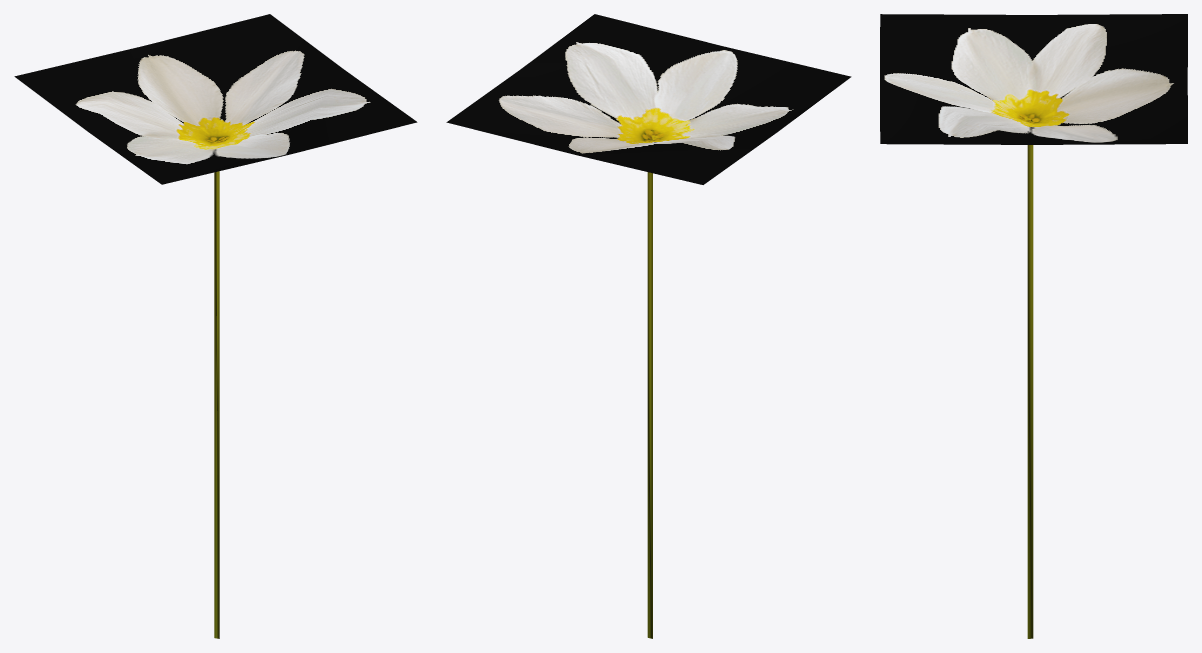
Rendered from flower4.glb.
The picture shows the model from 3 angles, left to right: view 1: azimuth 30°, elevation 25°; view 2: azimuth 150°, elevation 25°; view 3: azimuth 270°, elevation 25°; orthographic projection. The views are drawn at different scales.
Parts seen in each view (by area): view 1: Cylinder.001; view 2: Cylinder.001; view 3: Cylinder.001.
Part boxes in pixels (bbox=[...]): Cylinder.001: bbox=[14, 14, 417, 638]; Cylinder.001: bbox=[446, 14, 851, 638]; Cylinder.001: bbox=[880, 14, 1187, 638].
Size of the model in its own units: 0.9586 by 1.92 by 0.9582.
1 material, 1 textured.
